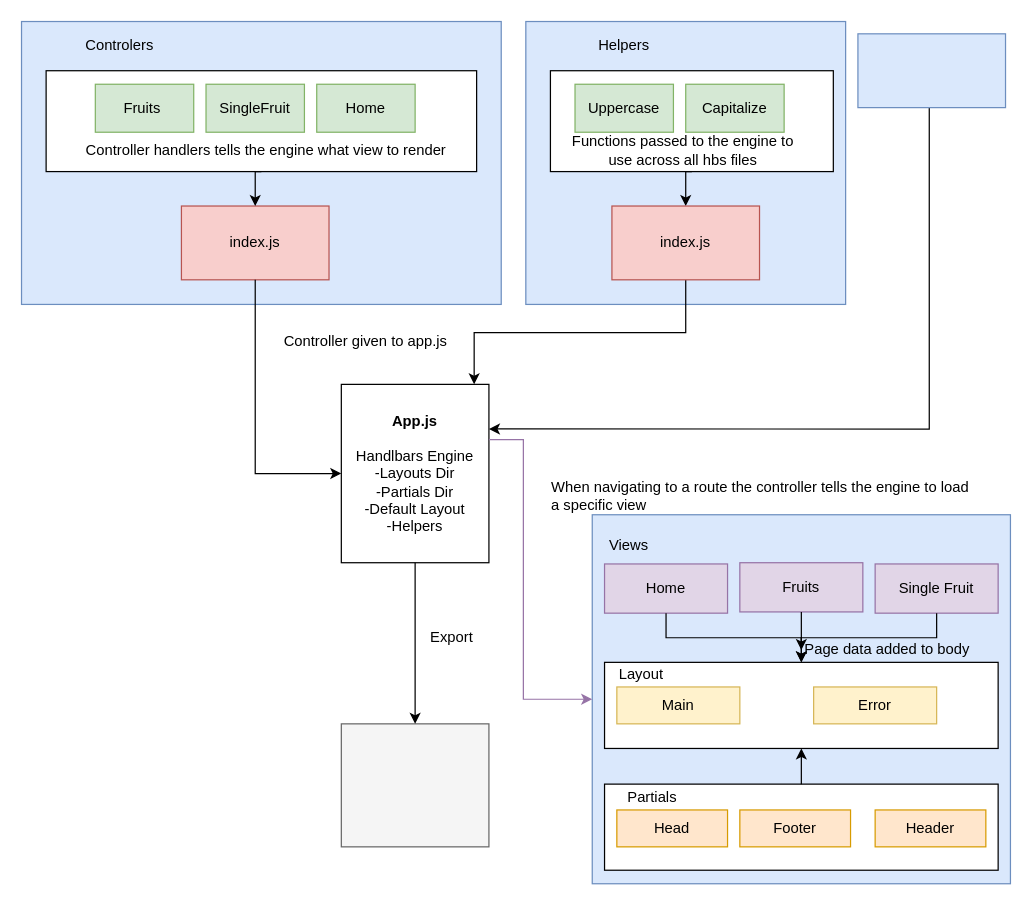
Some shapes in this 1032 by 905 pixel diagram are drawn without their labels. Here are the shapes that lost their labels. From the top down, the centre of each, then its label:
[931,70]: Model- Holds Data
[414,785]: Index.js Start script here and calls server
